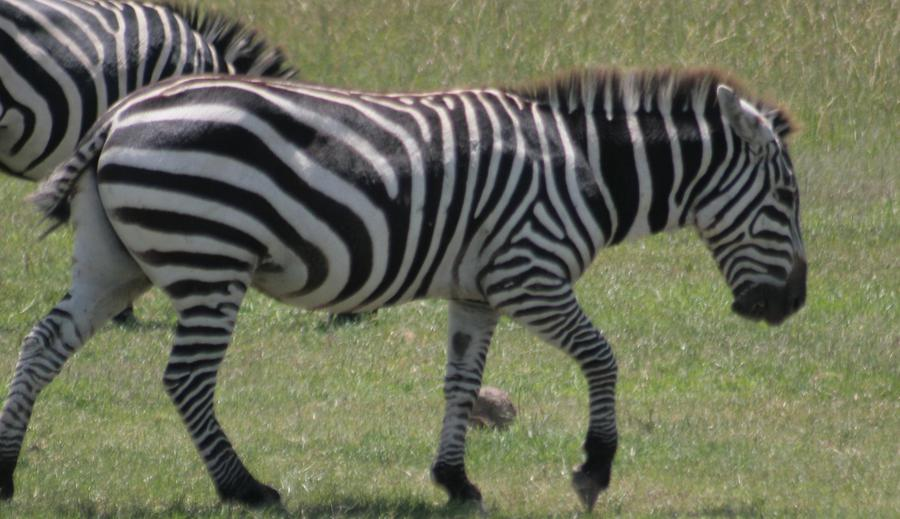zebra_plains: (121, 63, 589, 336)
